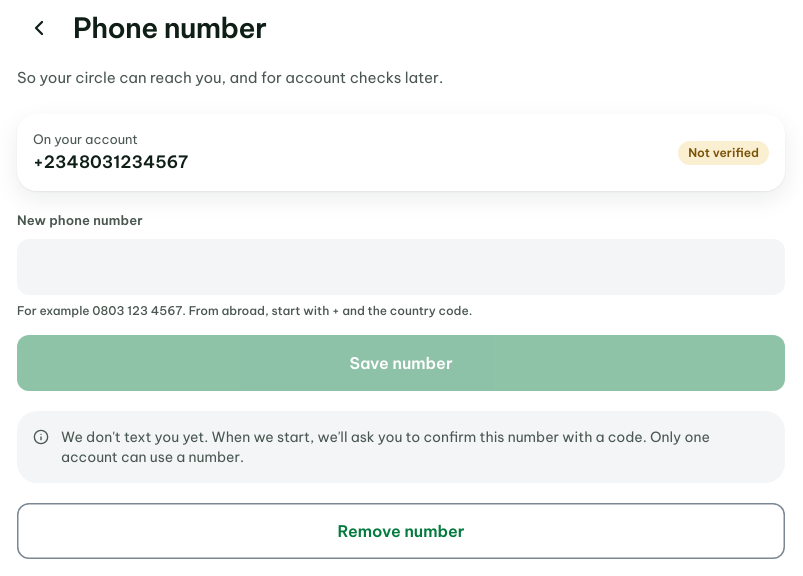
the phone number screen › removes a saved number
The image size is (803, 576).
Click the button "Remove number": {"x": 401, "y": 530} [17,502,785,558]
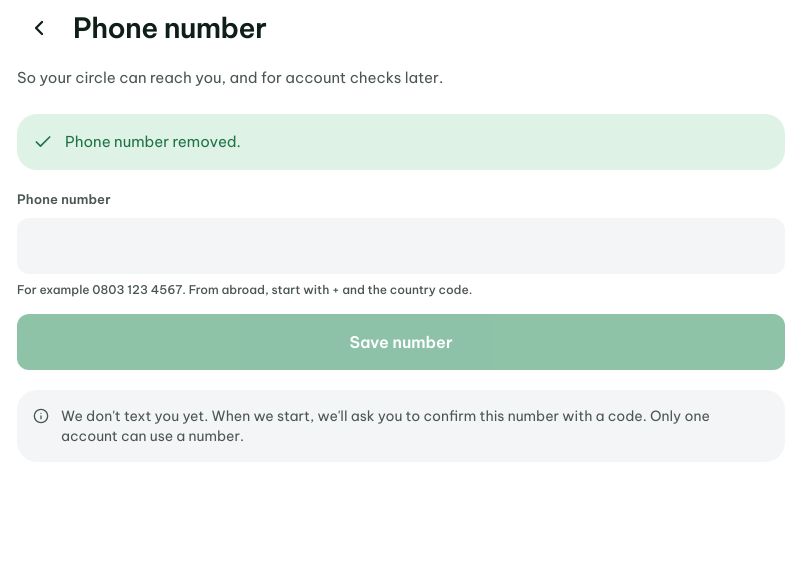
Now the message reads "Phone number removed.", box [65,132,241,151]
Now the text "+2348031234567" is gone
